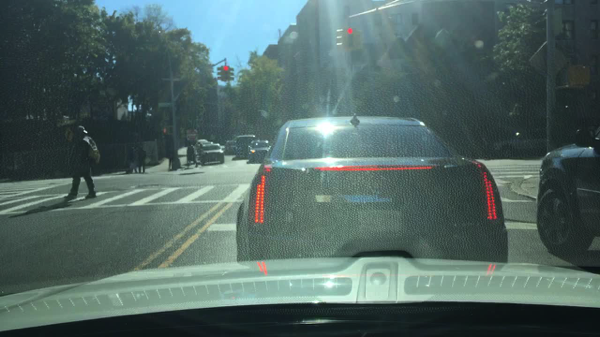car: (235, 115, 508, 264), (536, 124, 599, 255), (493, 128, 546, 158), (247, 140, 271, 164), (198, 144, 224, 165), (233, 134, 255, 158), (223, 140, 236, 155), (199, 142, 213, 150), (199, 138, 207, 146)
person: (64, 126, 100, 203), (127, 143, 138, 173), (186, 142, 198, 168), (135, 145, 148, 169)
traffic light: (564, 65, 589, 87), (345, 29, 354, 50), (335, 28, 344, 49), (221, 66, 229, 83), (229, 70, 236, 83), (216, 66, 222, 81), (162, 127, 169, 135)
traffic sign: (529, 42, 566, 80), (186, 129, 198, 142), (158, 102, 173, 108), (65, 130, 72, 142)
